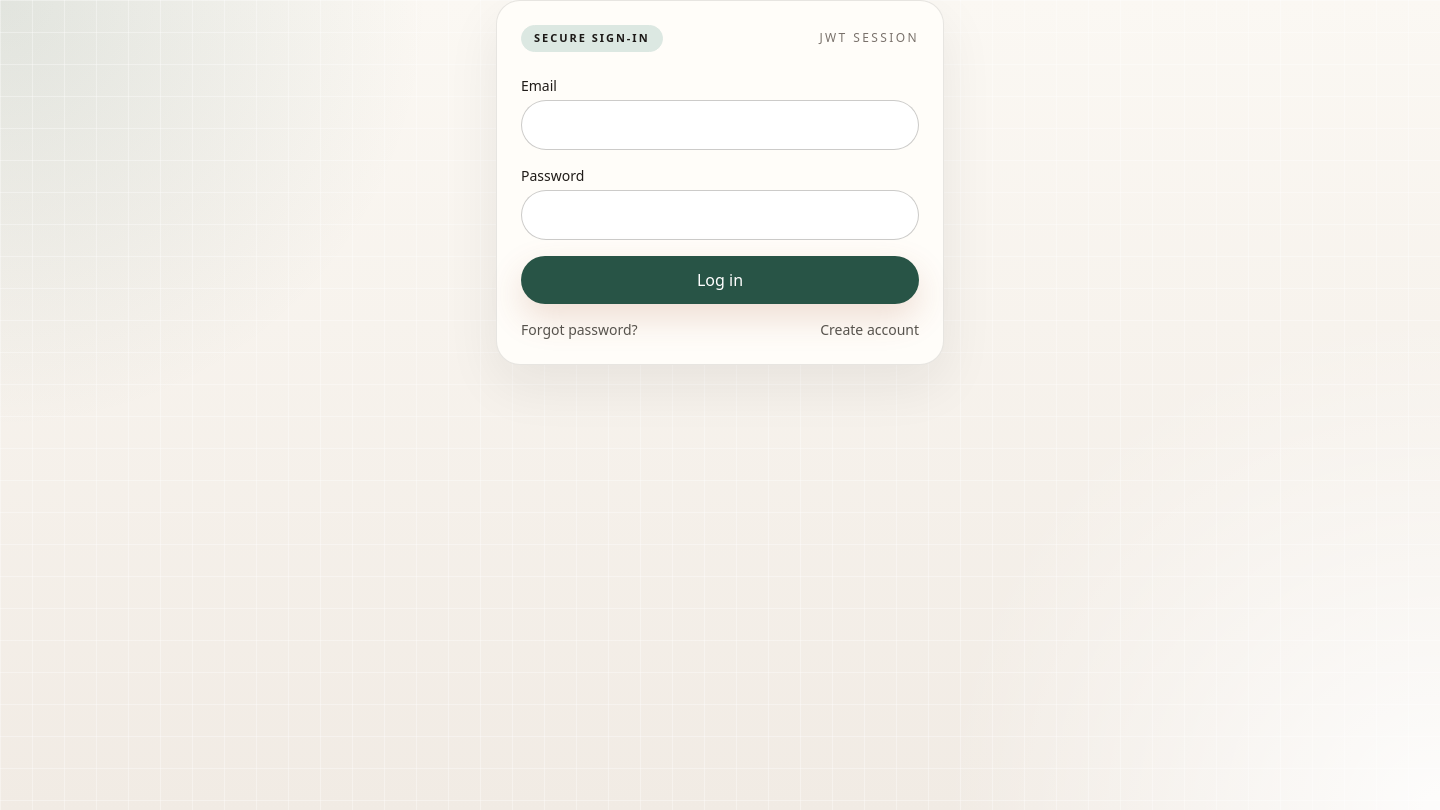
Test: LoginForm › shows a server error when login fails
Type "customer@northstar.local" into the field labelled "Email" at x=720, y=124, box left=521, top=100, right=919, bottom=150
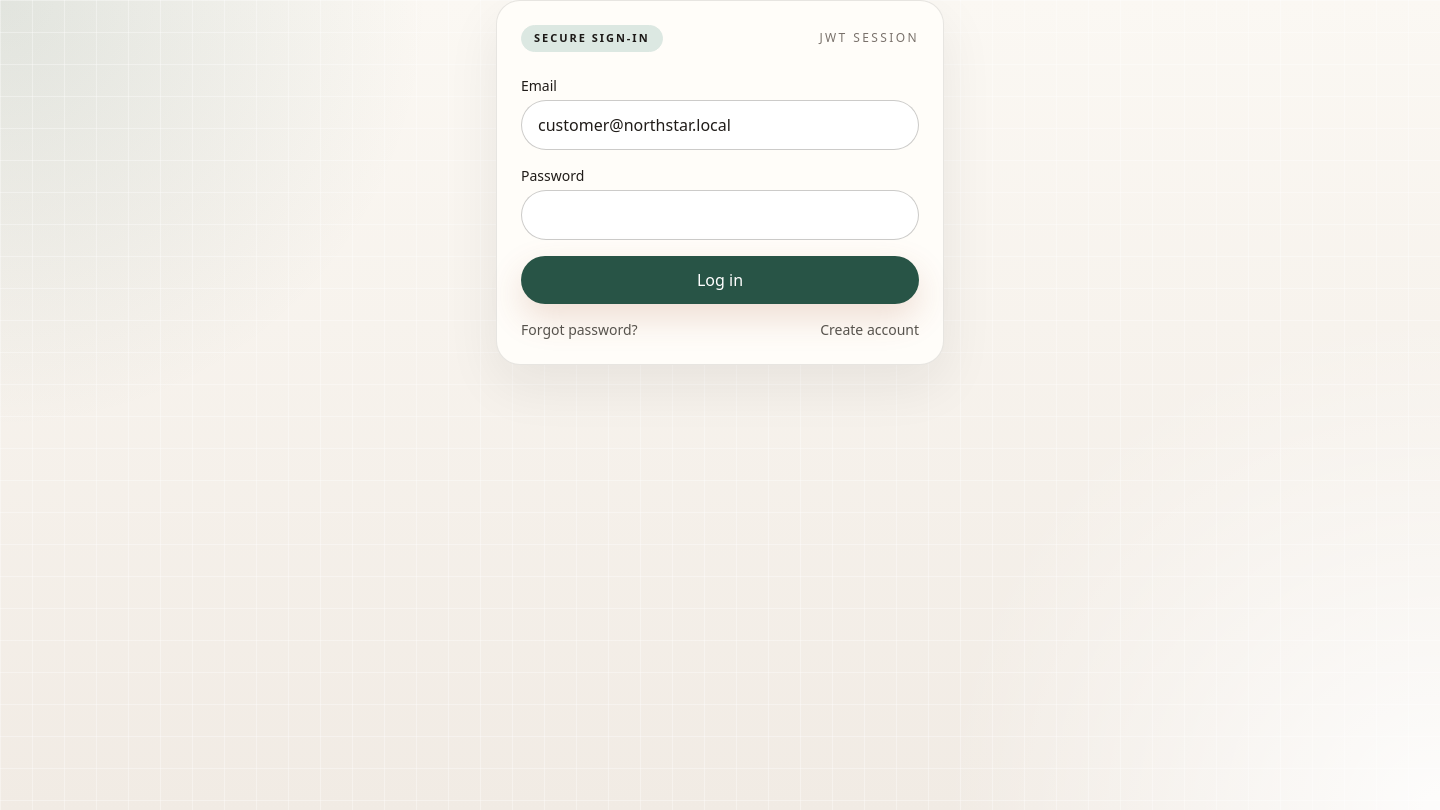
Type "WrongPass123!" into the password field labelled "Password" at x=720, y=214, box left=521, top=190, right=919, bottom=240
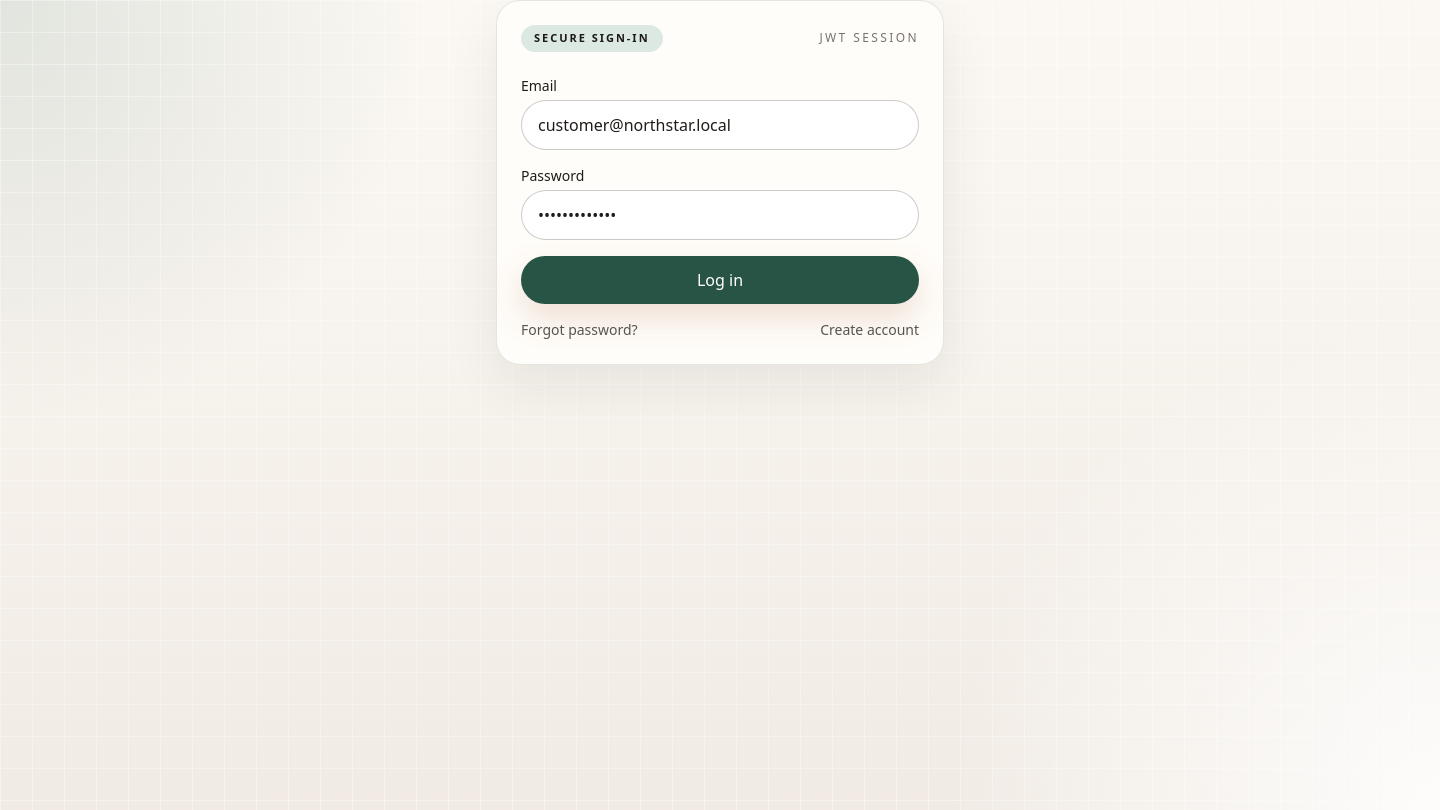
Click the button "Log in" at x=720, y=280, box left=521, top=256, right=919, bottom=304
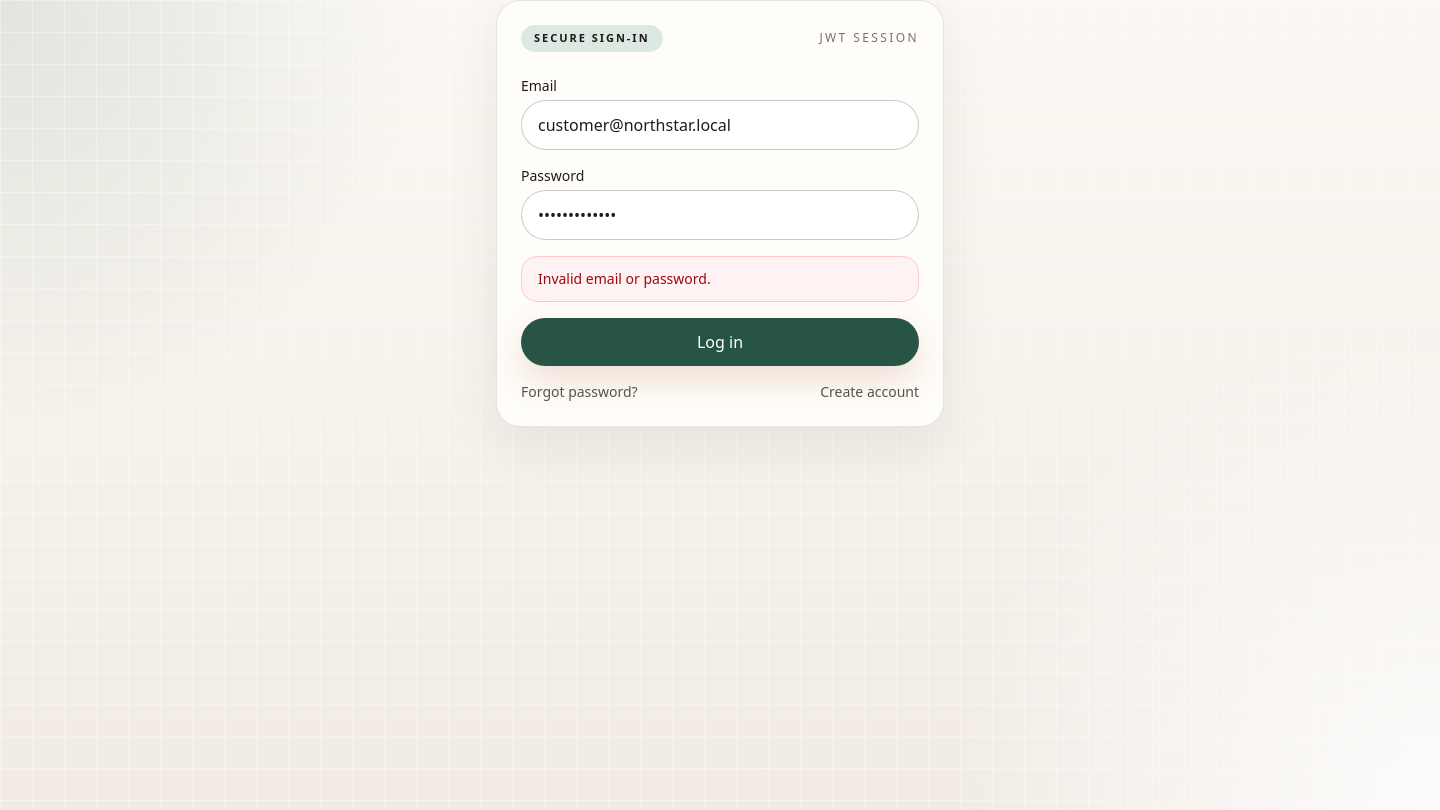
Expected: the text "Invalid email or password." is shown, left=521, top=256, right=919, bottom=302
